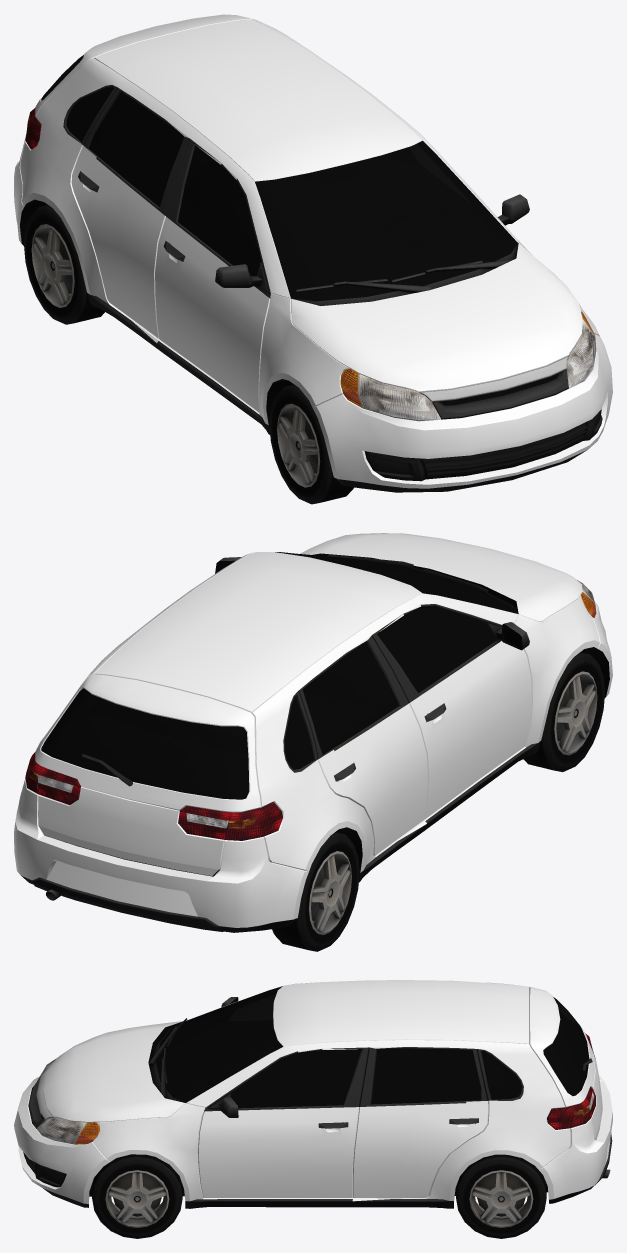
The model's file is hatch-1.glb.
3 views of the same model, one above another, from view 1: azimuth 30°, elevation 25°; view 2: azimuth 150°, elevation 25°; view 3: azimuth 270°, elevation 25° (orthographic). The views are drawn at different scales.
Visible parts, largest first — view 1: body, wheel_fr, wheel_rr; view 2: body, wheel_rr, wheel_fr; view 3: body, wheel_fl, wheel_rl.
Part boxes in pixels (x1,y1,x2,y2): body: (14,14,612,492); wheel_fr: (269,384,354,504); wheel_rr: (24,205,104,324); body: (14,533,612,932); wheel_rr: (272,832,359,951); wheel_fr: (523,652,604,772); body: (14,980,612,1208); wheel_fl: (92,1154,182,1238); wheel_rl: (456,1154,546,1238).
Size of the model in its own units: 1.74 by 1.35 by 3.96.
Materials: 5 (3 with a texture image).
